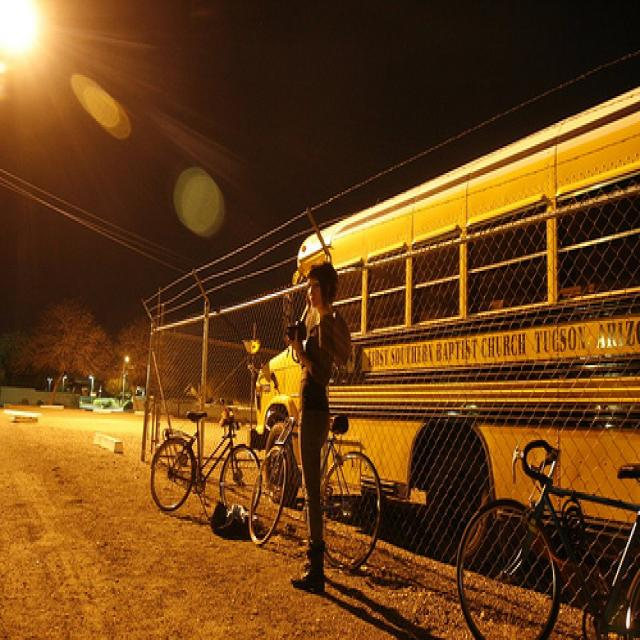Bicycle: (428, 427, 640, 640), (252, 379, 390, 597), (124, 369, 267, 545)
Bus: (206, 176, 640, 497)
People: (291, 241, 352, 589)
